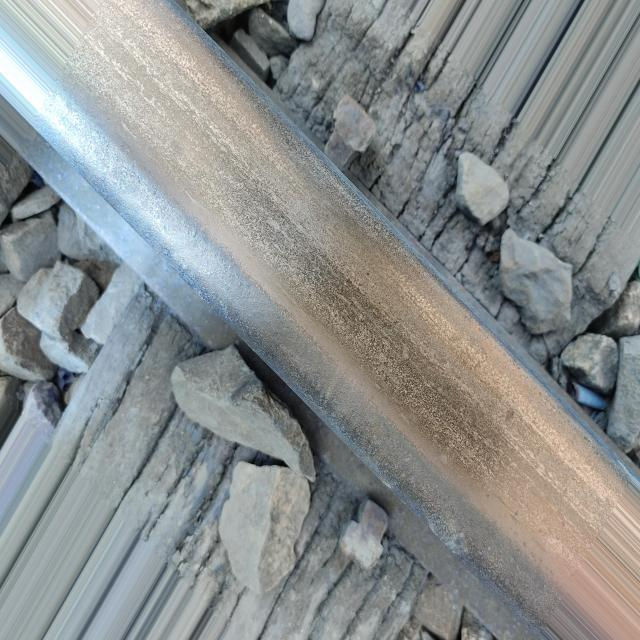Good Fasteners: (324, 95, 375, 171), (340, 499, 388, 569)
